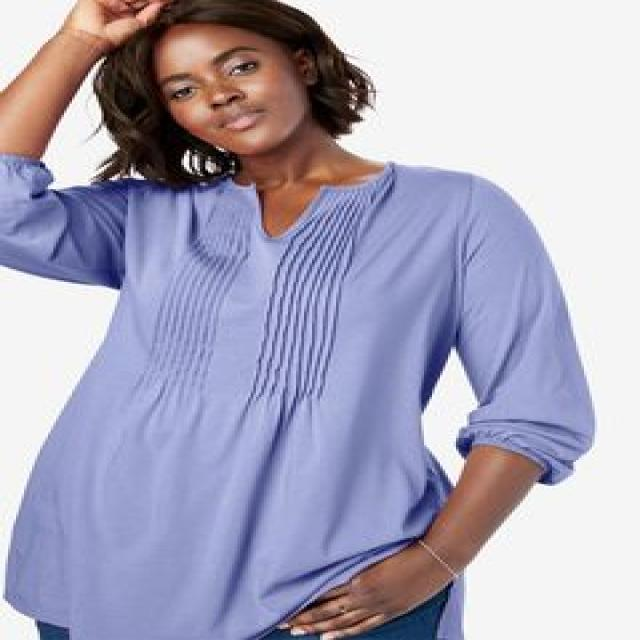human: (4, 4, 597, 640)
